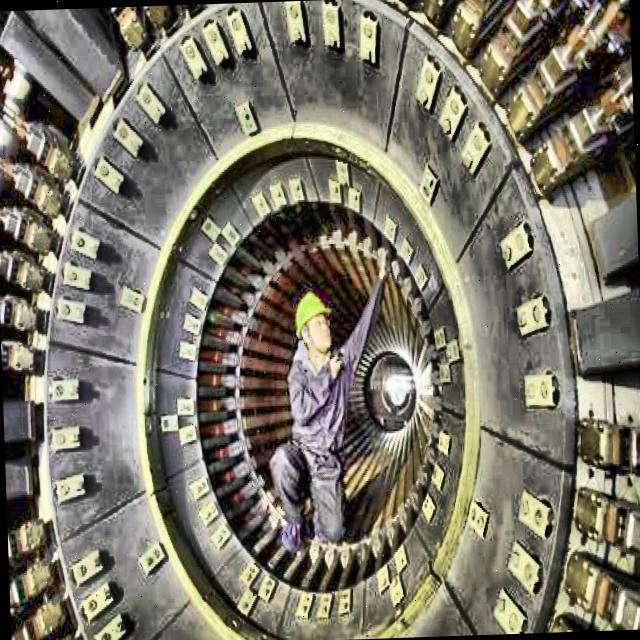helmet: (293, 282, 337, 368)
